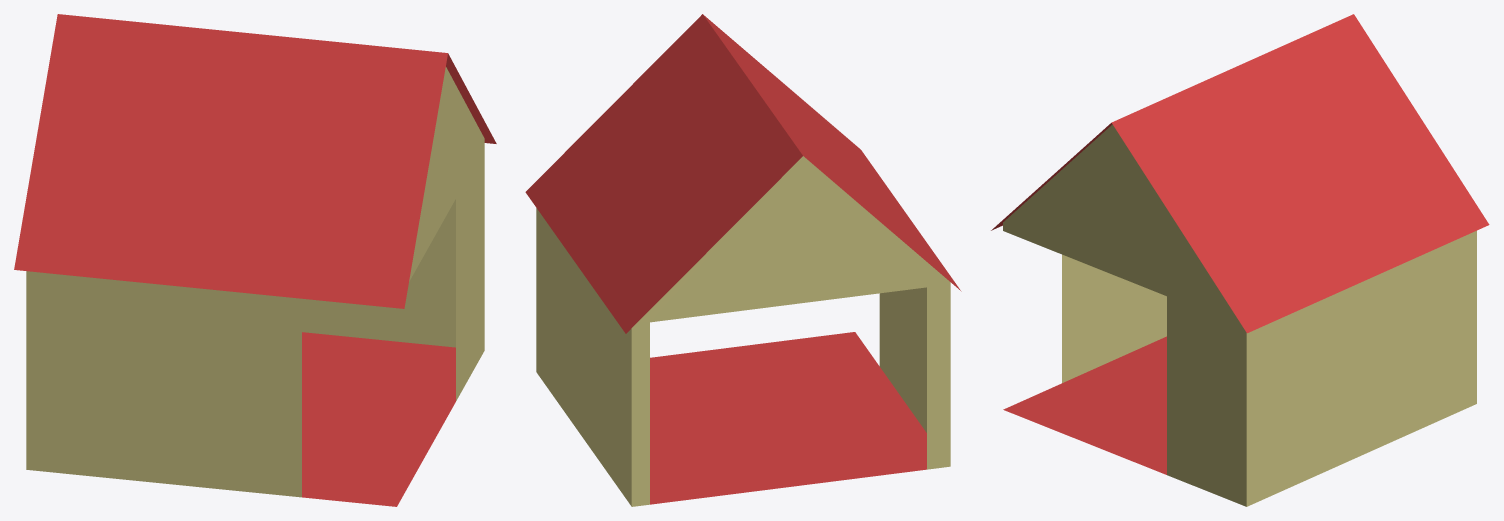
3 renders of one model, left to right at view 1: azimuth 30°, elevation 25°; view 2: azimuth 150°, elevation 25°; view 3: azimuth 270°, elevation 25°, orthographic. The views are drawn at different scales.
Size of the model in its own units: 14.04 by 14.04 by 10.42.
